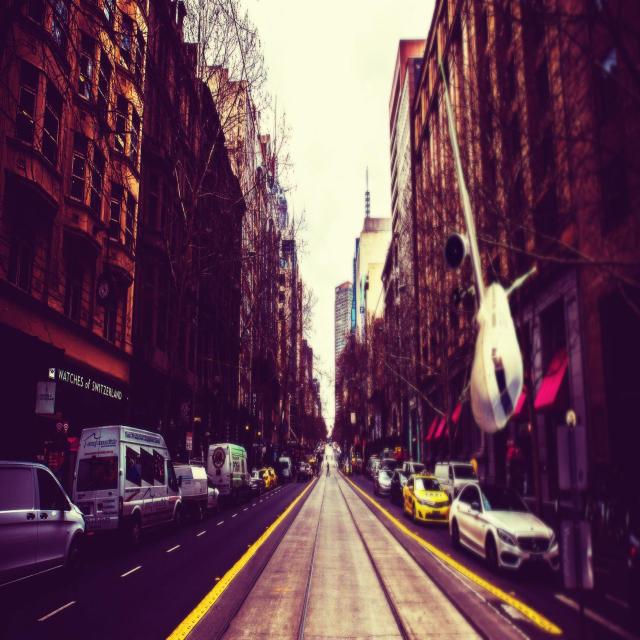airplane: (438, 63, 536, 435)
